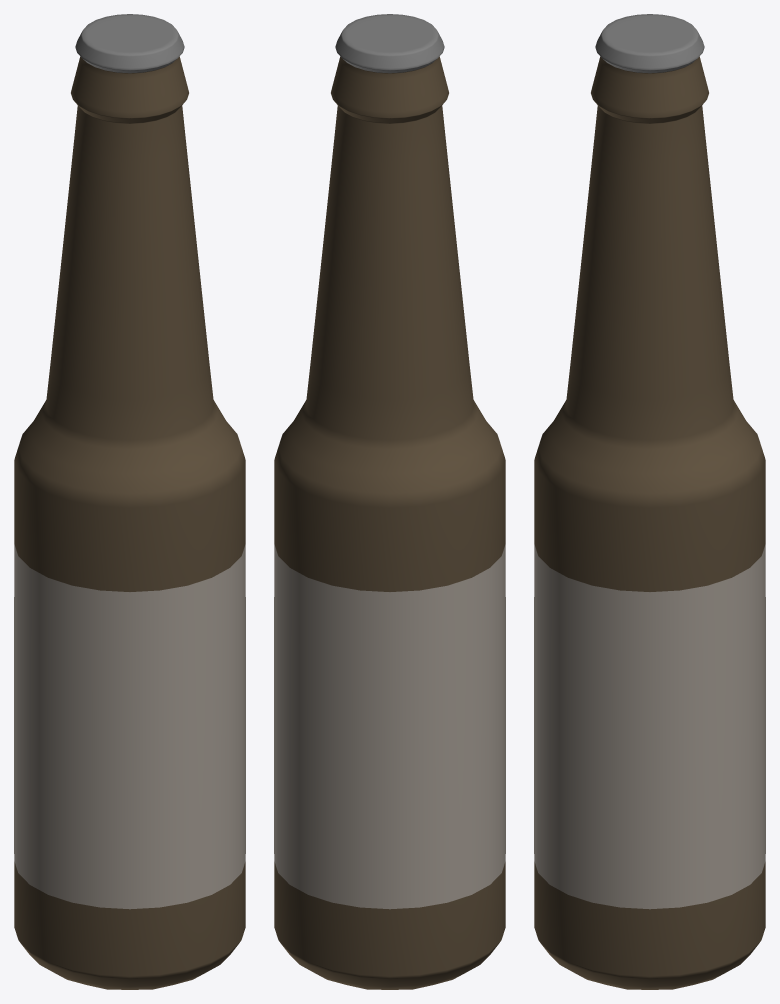
Rendered from Proto_Bottle_01.fbx.
3 renders of one model, left to right at view 1: azimuth 30°, elevation 25°; view 2: azimuth 150°, elevation 25°; view 3: azimuth 270°, elevation 25°, orthographic.
Visible parts, largest first — view 1: Proto_Bottle_01; view 2: Proto_Bottle_01; view 3: Proto_Bottle_01.
Boxes of the visible parts, bbox=[...] form: Proto_Bottle_01: bbox=[14, 14, 245, 989]; Proto_Bottle_01: bbox=[274, 14, 505, 989]; Proto_Bottle_01: bbox=[534, 14, 765, 989].
Size of the model in its own units: 1.93 by 8.49 by 1.93.
